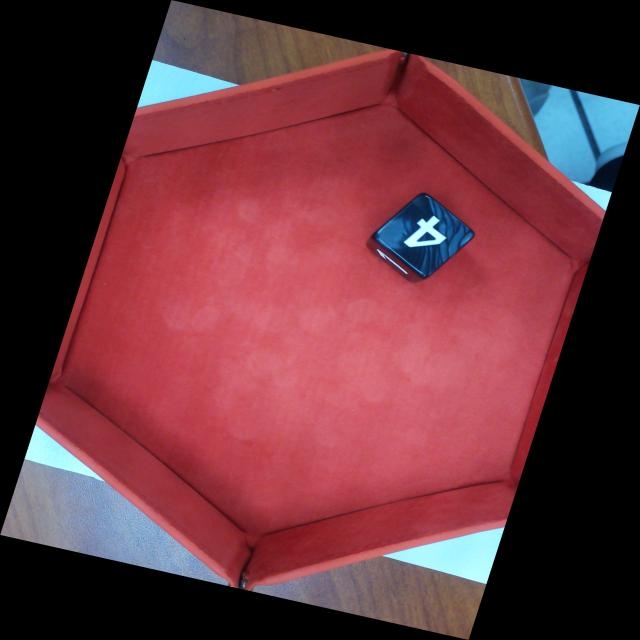dice: (368, 190, 481, 281)
